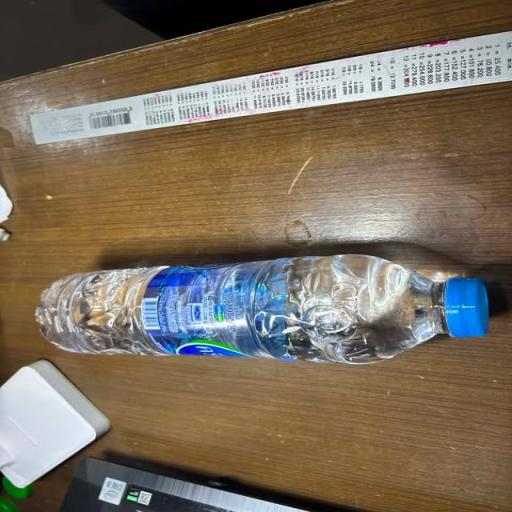bottle: (13, 254, 506, 372)
